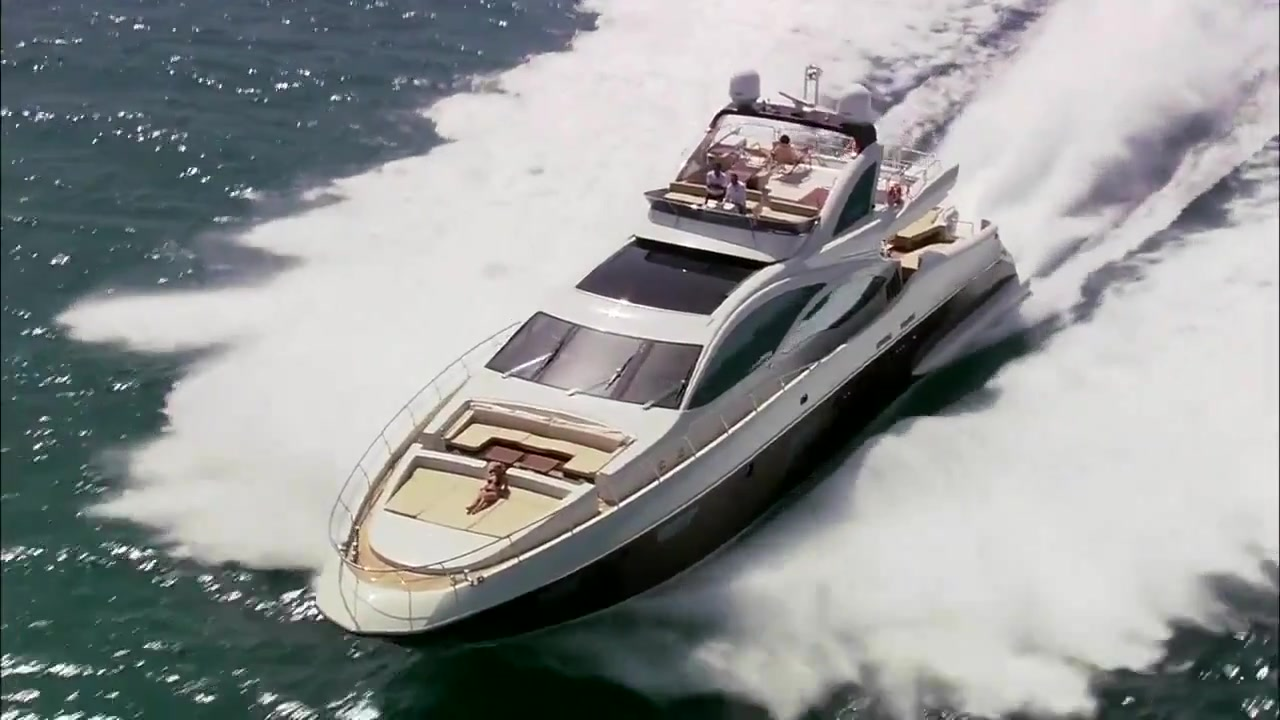boat: (312, 69, 1016, 646)
